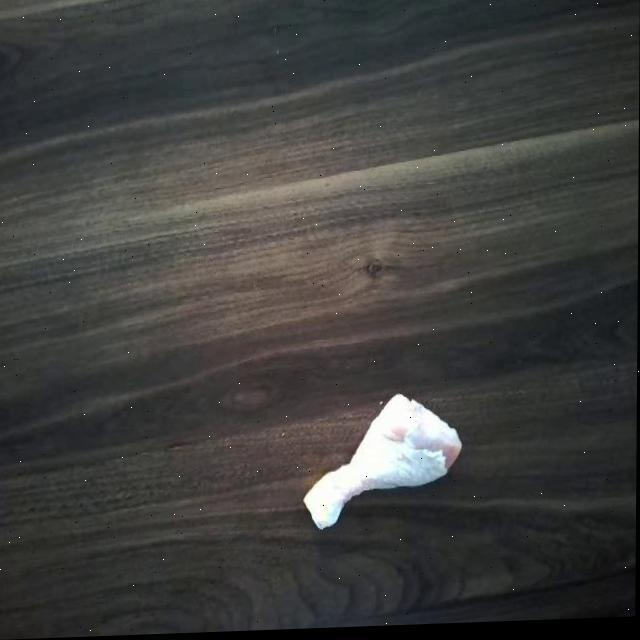leg: (303, 394, 461, 533)
